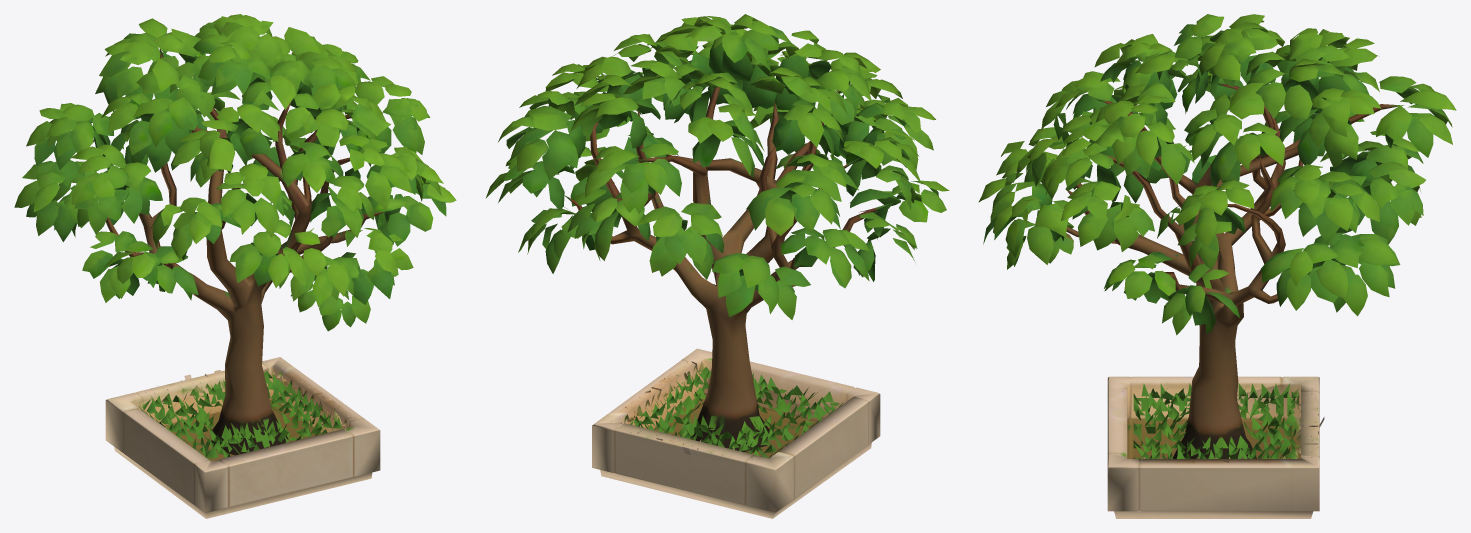
The model's file is stylized tree 3d model.fbx.
3 renders of one model, left to right at view 1: azimuth 30°, elevation 25°; view 2: azimuth 150°, elevation 25°; view 3: azimuth 270°, elevation 25°, orthographic. The views are drawn at different scales.
Parts seen in each view (by area): view 1: tripo_node_2afbbccb; view 2: tripo_node_2afbbccb; view 3: tripo_node_2afbbccb.
Part boxes in pixels (bbox=[...]): tripo_node_2afbbccb: bbox=[14, 14, 456, 518]; tripo_node_2afbbccb: bbox=[485, 14, 949, 518]; tripo_node_2afbbccb: bbox=[978, 14, 1456, 518].
Size of the model in its own units: 0.8823 by 0.9995 by 0.9575.
